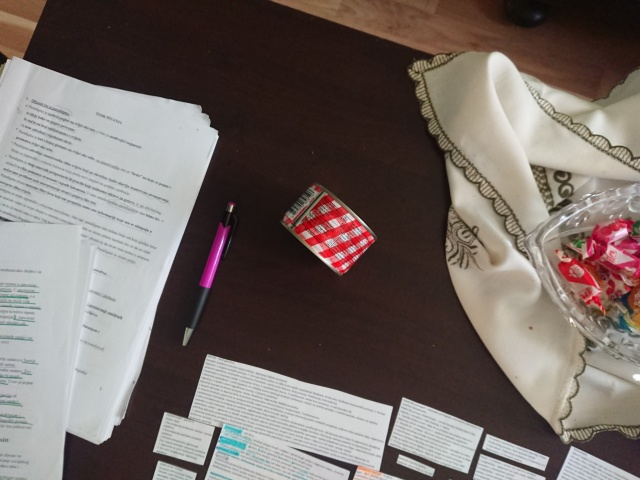Podravka Luncheon Meat 150g: (278, 181, 380, 279)
